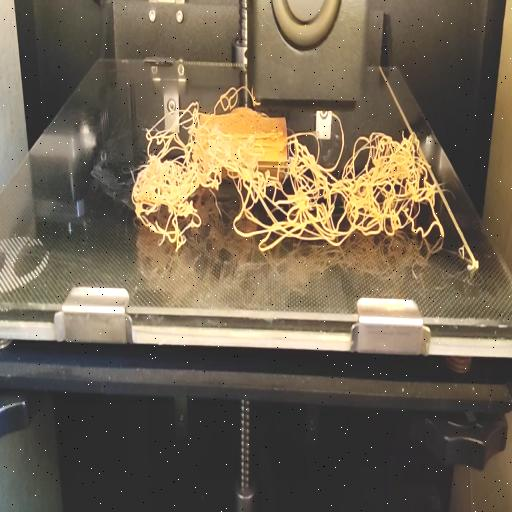spaghetti: (312, 113, 448, 249), (132, 100, 220, 252), (220, 120, 312, 256), (218, 79, 258, 111)
